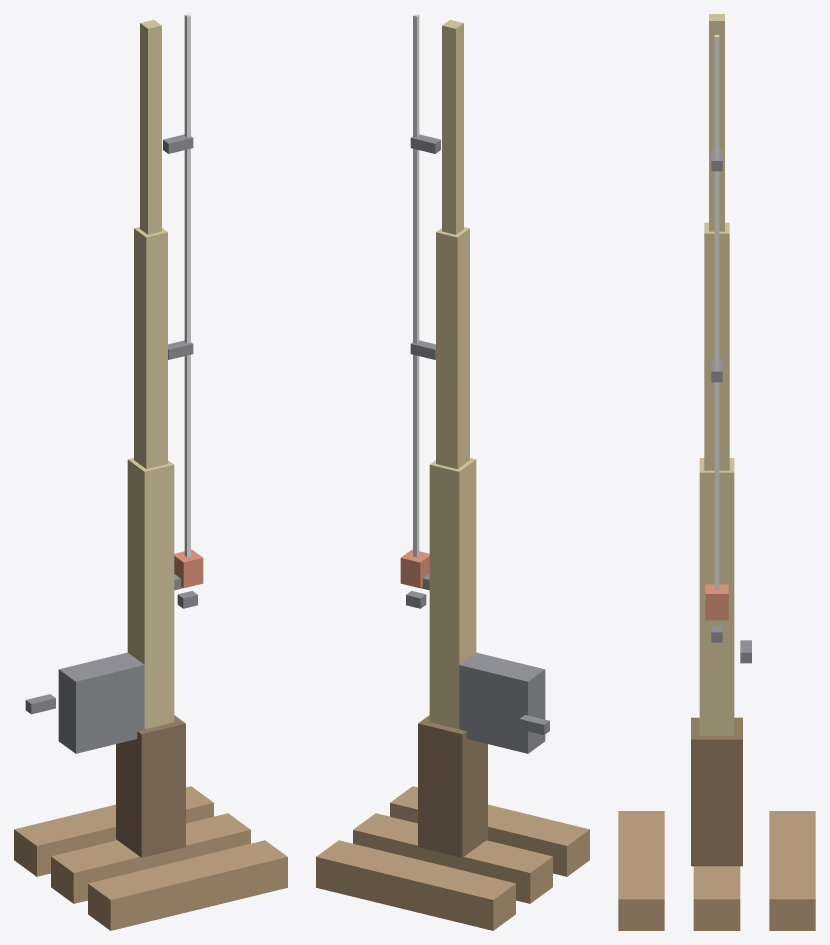
File: 35-Mineria_cana_pescar.glb
3 views of the same model, side by side, from view 1: azimuth 30°, elevation 25°; view 2: azimuth 150°, elevation 25°; view 3: azimuth 270°, elevation 25° (orthographic). The views are drawn at different scales.
Visible parts, largest first — view 1: SM_Cana_Vara_NOFUNDIR, SM_Cana_Basa_NOFUNDIR, SM_Cana_Mango_NOFUNDIR, SM_Cana_Carrete_NOFUNDIR, SM_Cana_Linea, SM_Cana_Flotador; view 2: SM_Cana_Vara_NOFUNDIR, SM_Cana_Basa_NOFUNDIR, SM_Cana_Mango_NOFUNDIR, SM_Cana_Carrete_NOFUNDIR, SM_Cana_Linea, SM_Cana_Flotador; view 3: SM_Cana_Vara_NOFUNDIR, SM_Cana_Basa_NOFUNDIR, SM_Cana_Mango_NOFUNDIR, SM_Cana_Linea, SM_Cana_Flotador.
Part boxes in pixels (box(x1,y1,x2,y2)): SM_Cana_Vara_NOFUNDIR: box(127, 19, 174, 729); SM_Cana_Basa_NOFUNDIR: box(14, 786, 287, 930); SM_Cana_Mango_NOFUNDIR: box(116, 715, 185, 857); SM_Cana_Carrete_NOFUNDIR: box(25, 652, 144, 753); SM_Cana_Linea: box(184, 14, 190, 557); SM_Cana_Flotador: box(174, 549, 203, 588); SM_Cana_Vara_NOFUNDIR: box(429, 19, 476, 729); SM_Cana_Basa_NOFUNDIR: box(316, 786, 589, 930); SM_Cana_Mango_NOFUNDIR: box(418, 715, 487, 857); SM_Cana_Carrete_NOFUNDIR: box(459, 652, 549, 753); SM_Cana_Linea: box(413, 14, 419, 557); SM_Cana_Flotador: box(400, 549, 429, 588); SM_Cana_Vara_NOFUNDIR: box(699, 14, 734, 735); SM_Cana_Basa_NOFUNDIR: box(618, 811, 815, 930); SM_Cana_Mango_NOFUNDIR: box(691, 717, 742, 866); SM_Cana_Linea: box(714, 35, 719, 589); SM_Cana_Flotador: box(705, 584, 728, 620).
Bounding box in the file's own units: 0.4 × 1.65 × 0.34.
